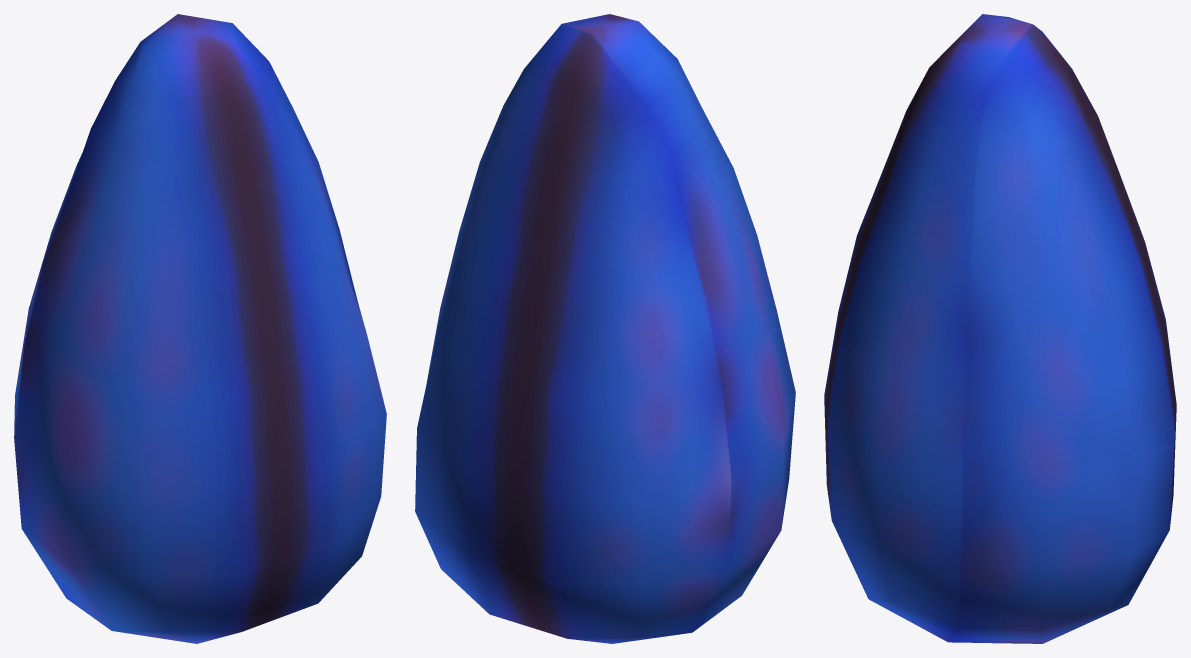
Rendered from SM_Gem_B_Silver.fbx.
3 renders of one model, left to right at view 1: azimuth 30°, elevation 25°; view 2: azimuth 150°, elevation 25°; view 3: azimuth 270°, elevation 25°, orthographic.
Parts seen in each view (by area): view 1: SM_Gem_B_Silver_LOD0; view 2: SM_Gem_B_Silver_LOD0; view 3: SM_Gem_B_Silver_LOD0.
Part boxes in pixels (<box>): SM_Gem_B_Silver_LOD0: <box>14,14,386,643</box>; SM_Gem_B_Silver_LOD0: <box>415,14,795,643</box>; SM_Gem_B_Silver_LOD0: <box>824,14,1176,643</box>.
Bounding box in the file's own units: 2.74 × 2.69 × 5.02.
Materials: 1 (1 with a texture image).
